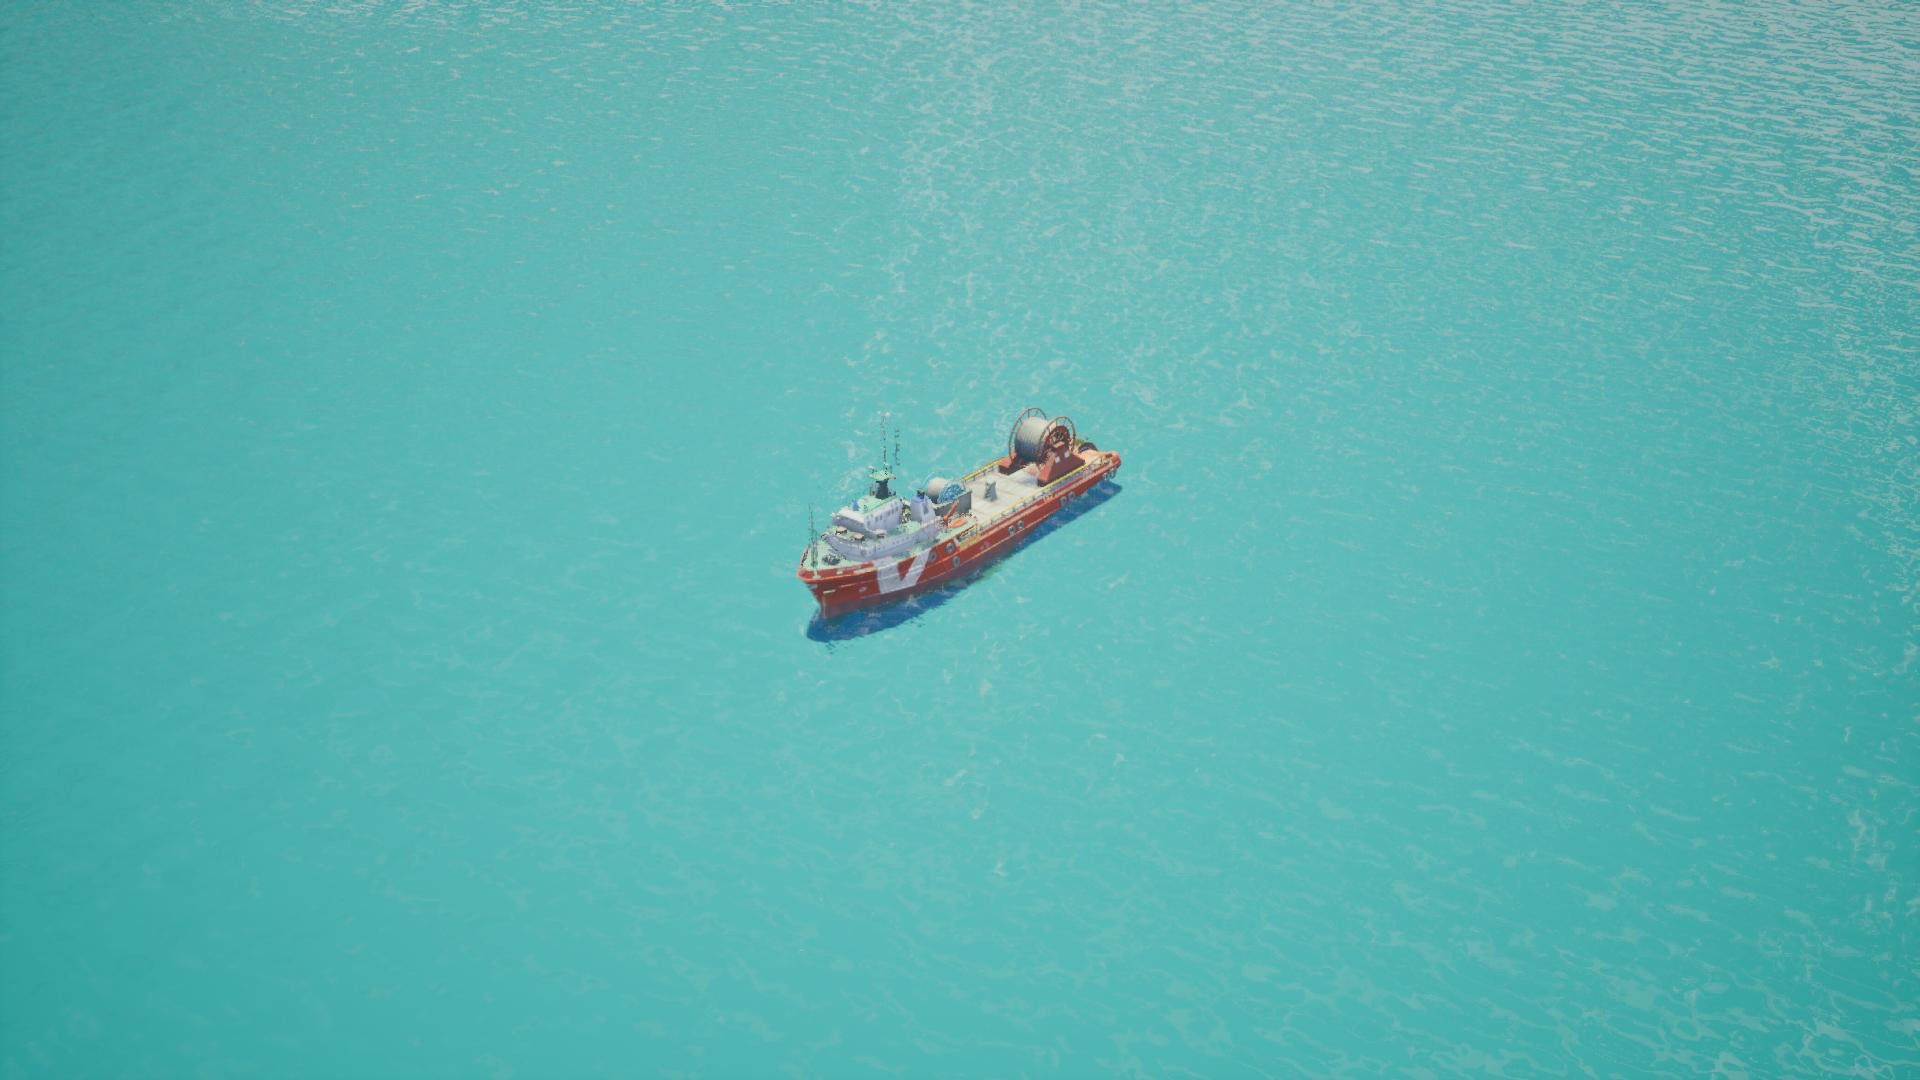Tug Boat: (653, 380, 1226, 625)
